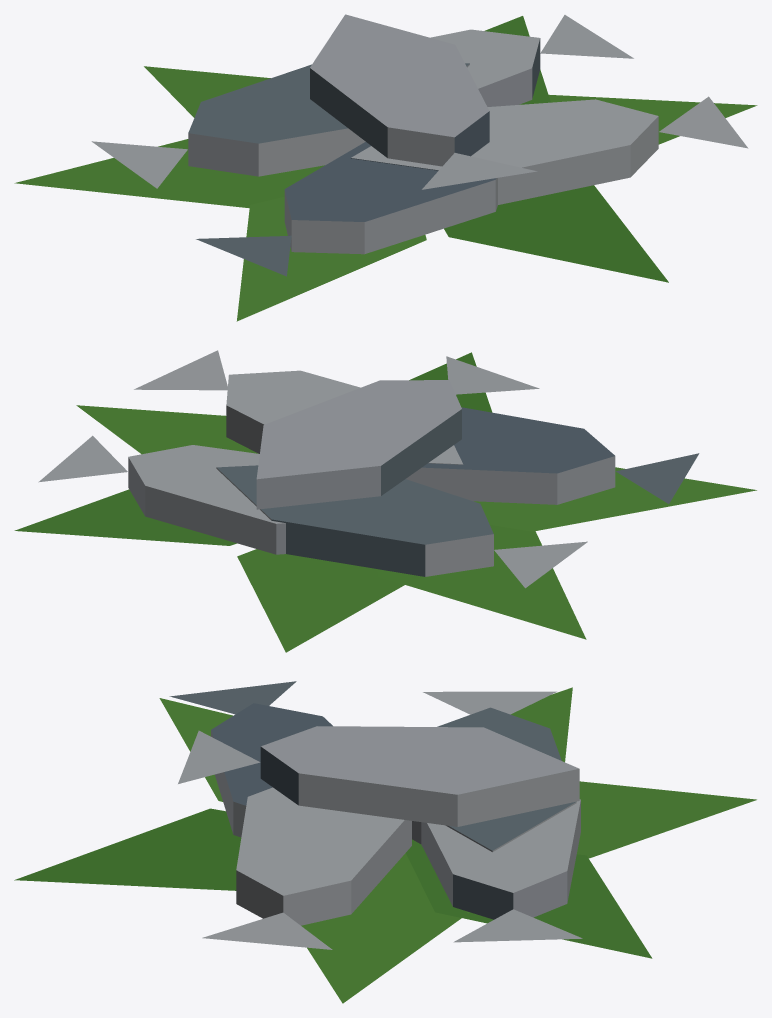
The model's file is storage_fish_meat.glb.
The picture shows the model from 3 angles, top to bottom: view 1: azimuth 30°, elevation 25°; view 2: azimuth 150°, elevation 25°; view 3: azimuth 270°, elevation 25°; orthographic projection. The views are drawn at different scales.
Visible parts, largest first — view 1: storage_fish_meat; view 2: storage_fish_meat; view 3: storage_fish_meat.
Part boxes in pixels (x1=…): storage_fish_meat: x1=14, y1=14, x2=757, y2=321; storage_fish_meat: x1=14, y1=350, x2=756, y2=652; storage_fish_meat: x1=14, y1=681, x2=756, y2=1003.
Bounding box in the file's own units: 1.8 × 0.2342 × 1.76.
